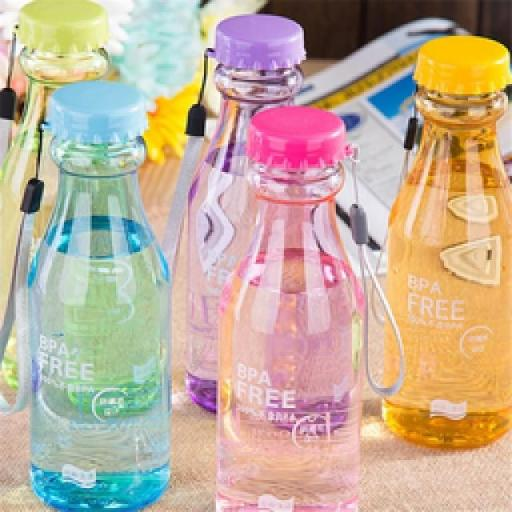plastic: (24, 78, 172, 510), (214, 104, 366, 510), (375, 32, 512, 458)
